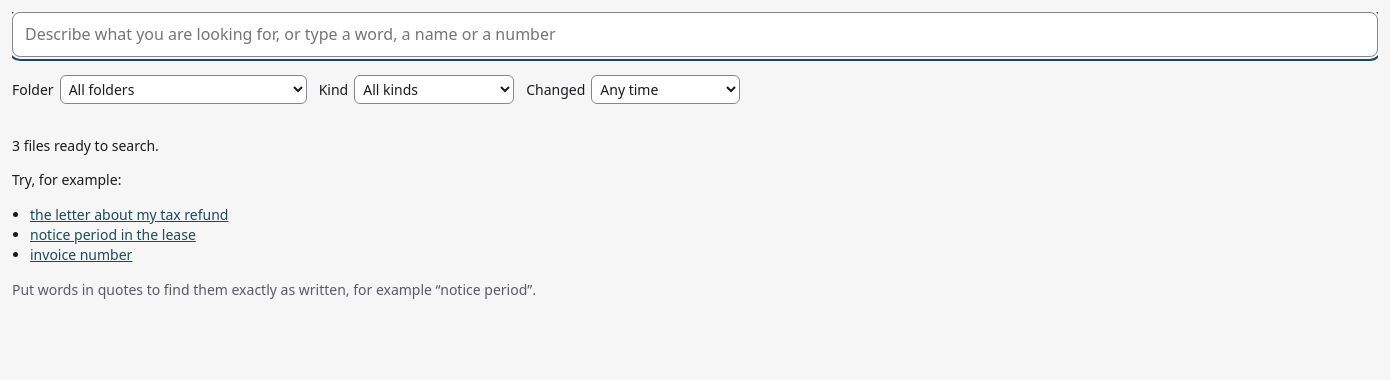
the search screen › folds a file's passages to its best one with Left, and unfolds them with Right
Replace the text in the search field with "tax amount": (695, 35) [12,12,1378,57]
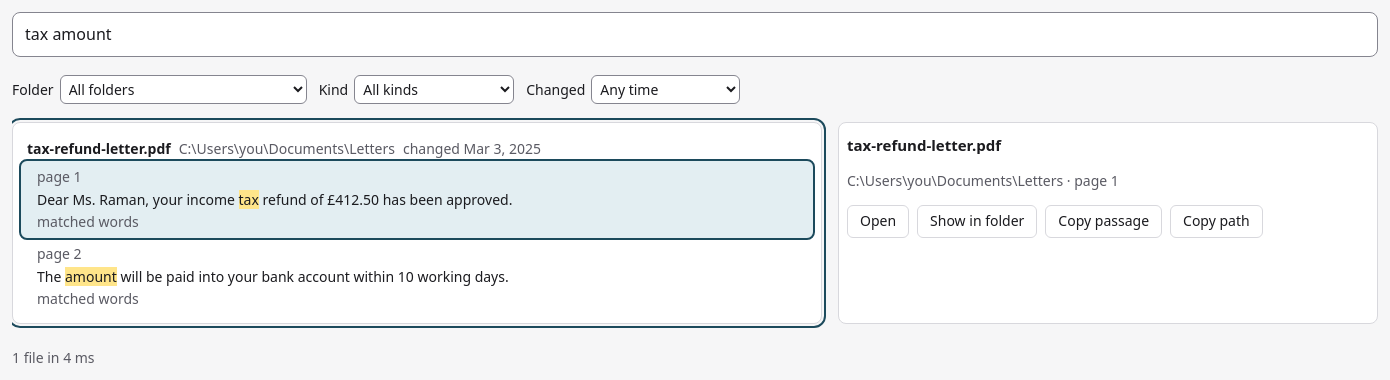
Expected: the number of options is 2, [21,162,813,238]; [37,244,509,308]
Press ArrowDown in the list, box [12,122,822,324]
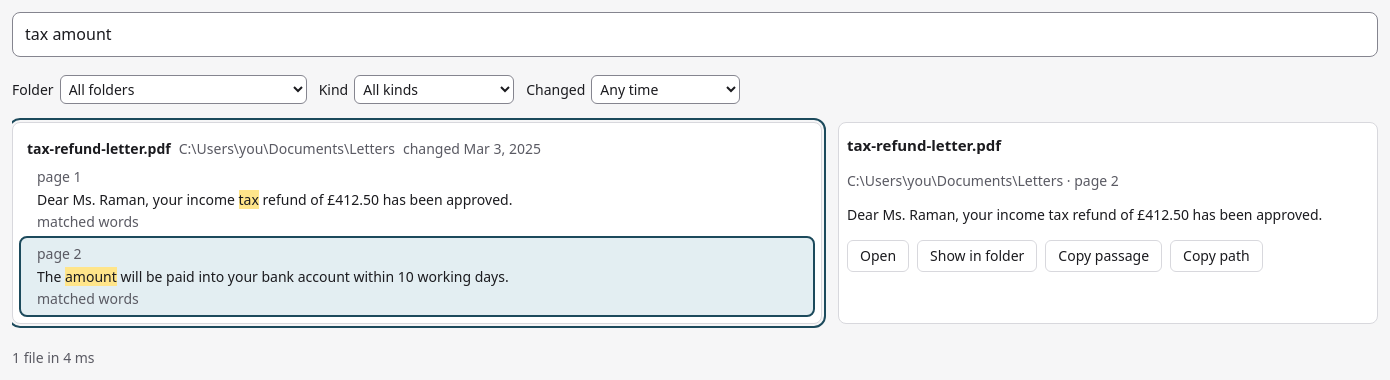
Press ArrowLeft in the list, box [12,122,822,324]
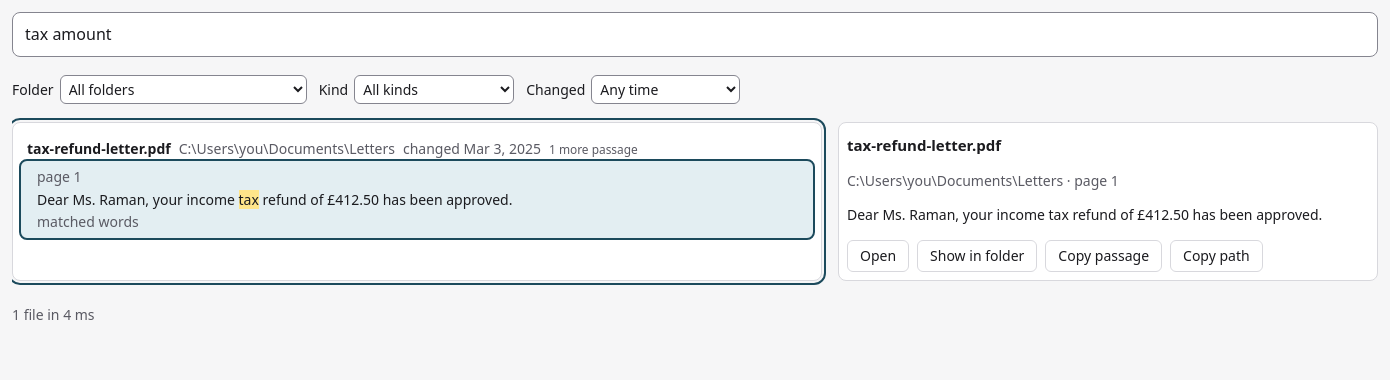
Expected: the number of options is 1, [21,162,813,238]
Expected: the element named "1 more passage" is shown, [21,131,813,238]
Press ArrowRight in the list, box [12,122,822,281]
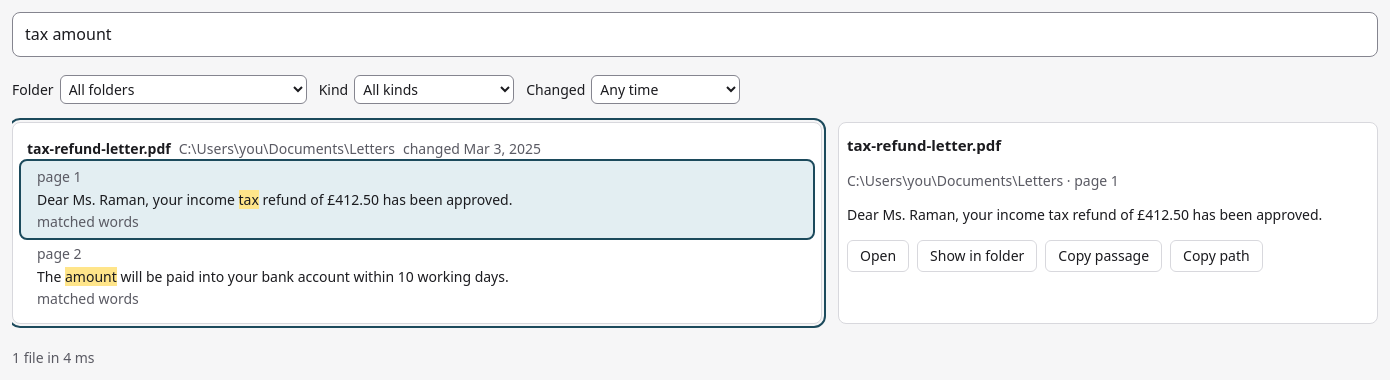
Expected: the number of options is 2, [21,162,813,238]; [37,244,509,308]
Expected: the text "more passage" is gone
Click the text "tax-refund-letter.pdf": (99, 149) [27,139,171,160]
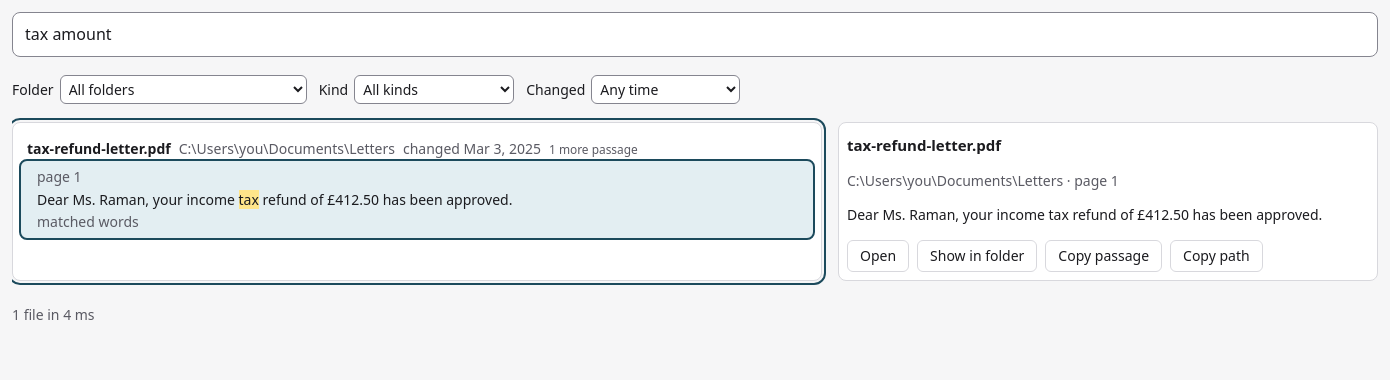
Expected: the number of options is 1, [21,162,813,238]
